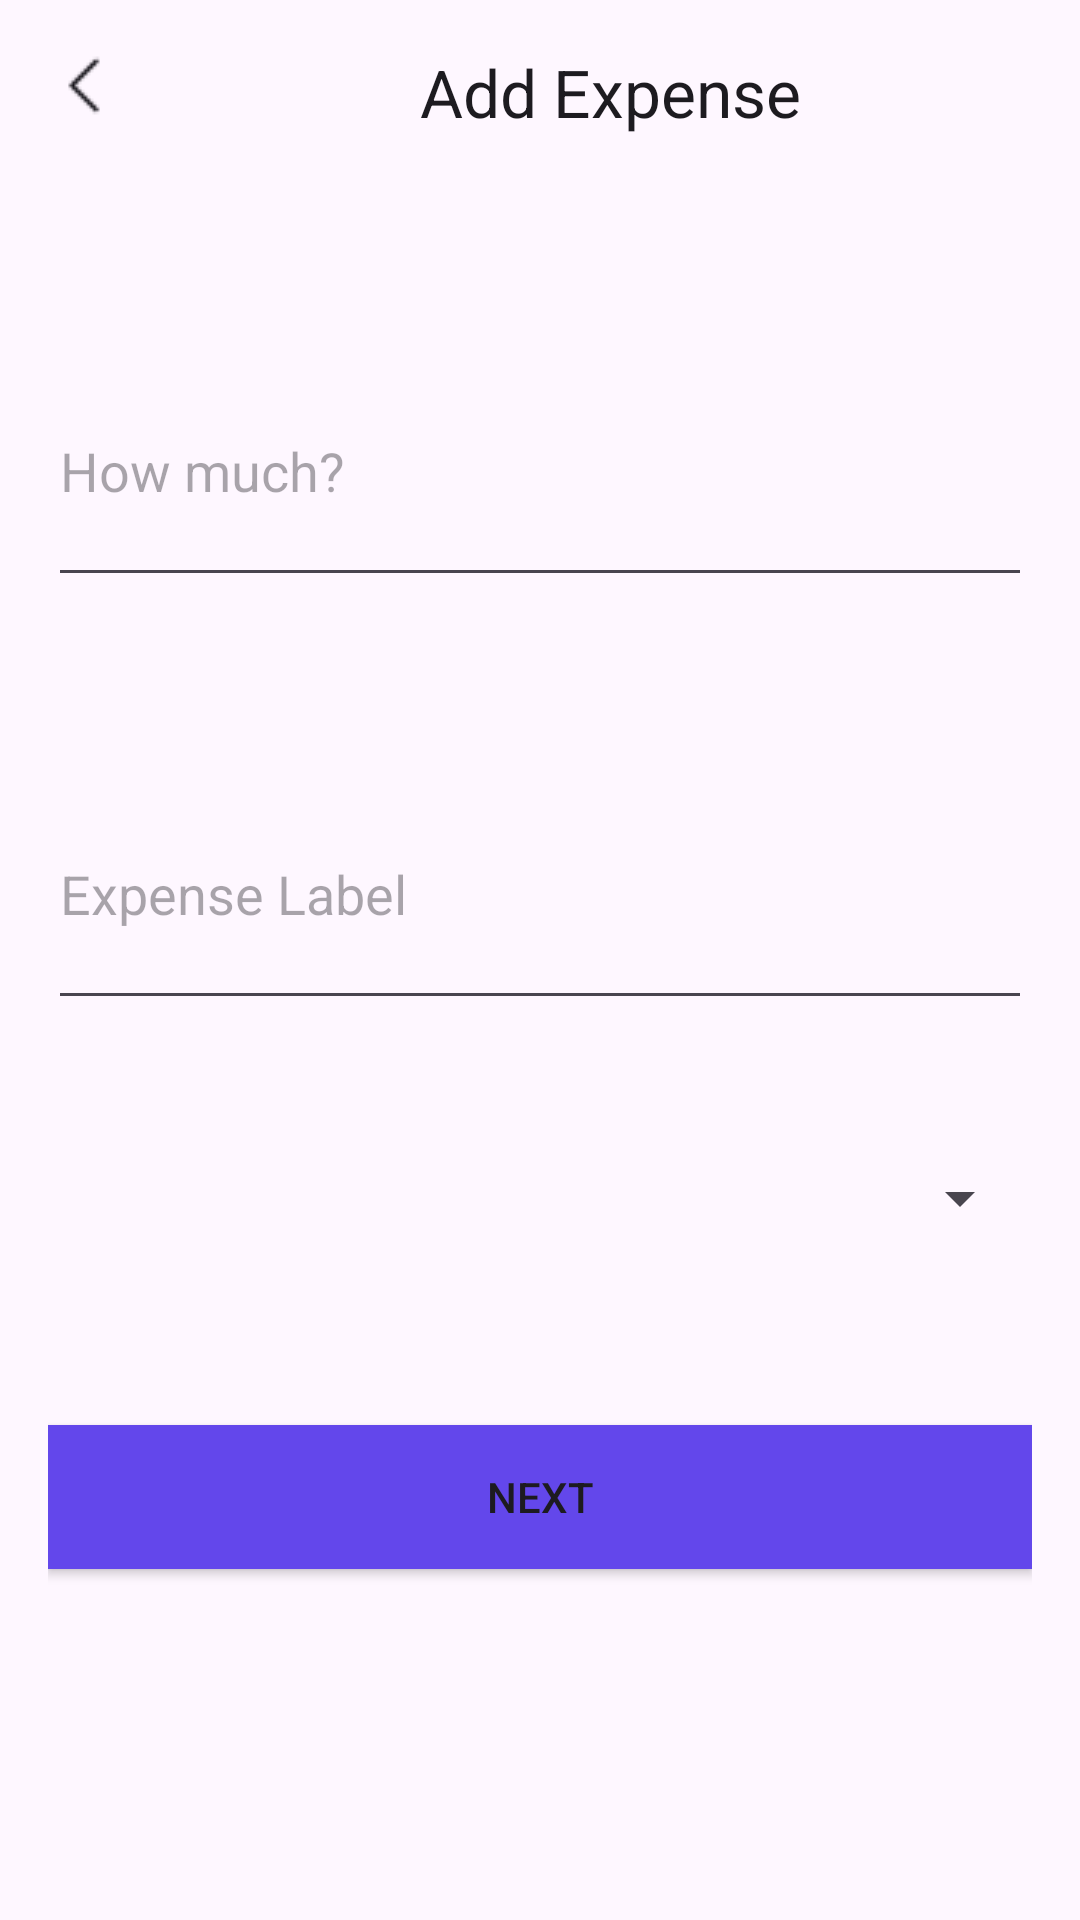

Where icons sit on this 1080×1920 app screen, as (x1, y1, x2, y2):
backbutton: (68, 58, 100, 113)
